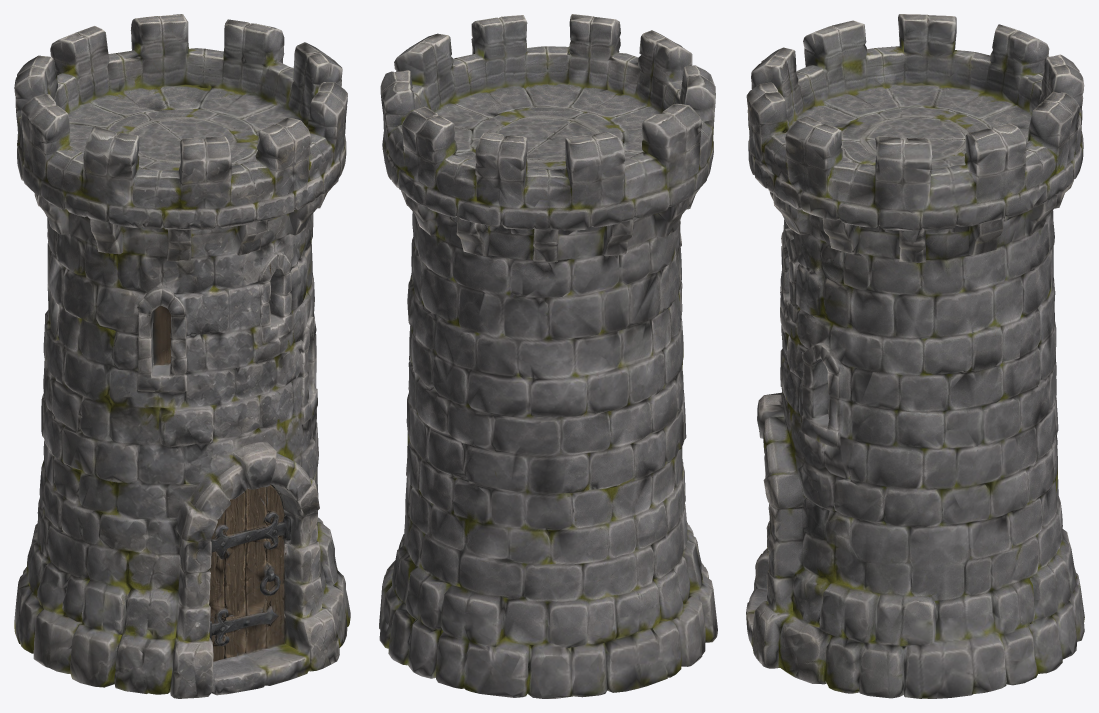
The model's file is fort_m_meadow_tower.glb.
3 views of the same model, side by side, from view 1: azimuth 30°, elevation 25°; view 2: azimuth 150°, elevation 25°; view 3: azimuth 270°, elevation 25° (orthographic).
Parts seen in each view (by area): view 1: fort_m_meadow_tower; view 2: fort_m_meadow_tower; view 3: fort_m_meadow_tower.
Part boxes in pixels (x1,y1,x2,y2): fort_m_meadow_tower: [14, 14, 350, 698]; fort_m_meadow_tower: [379, 14, 717, 698]; fort_m_meadow_tower: [746, 14, 1084, 698].
Bounding box in the file's own units: 1.06 × 1.9 × 1.06.
1 material, 1 textured.
